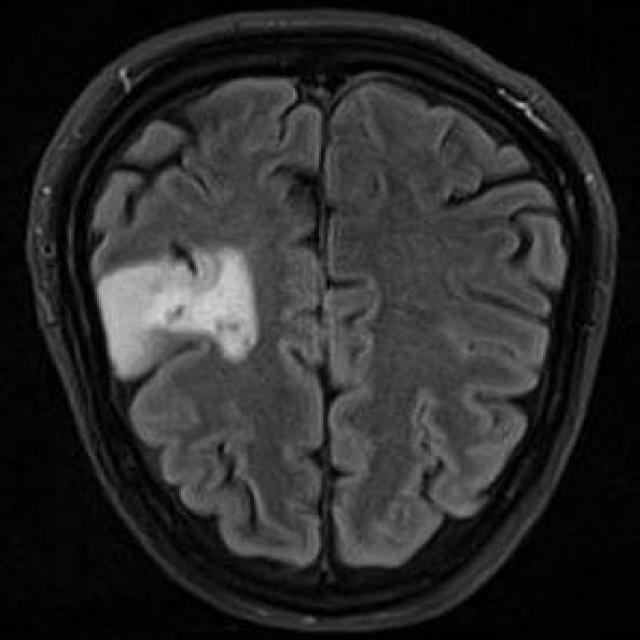brain tumor: (95, 245, 263, 381)
